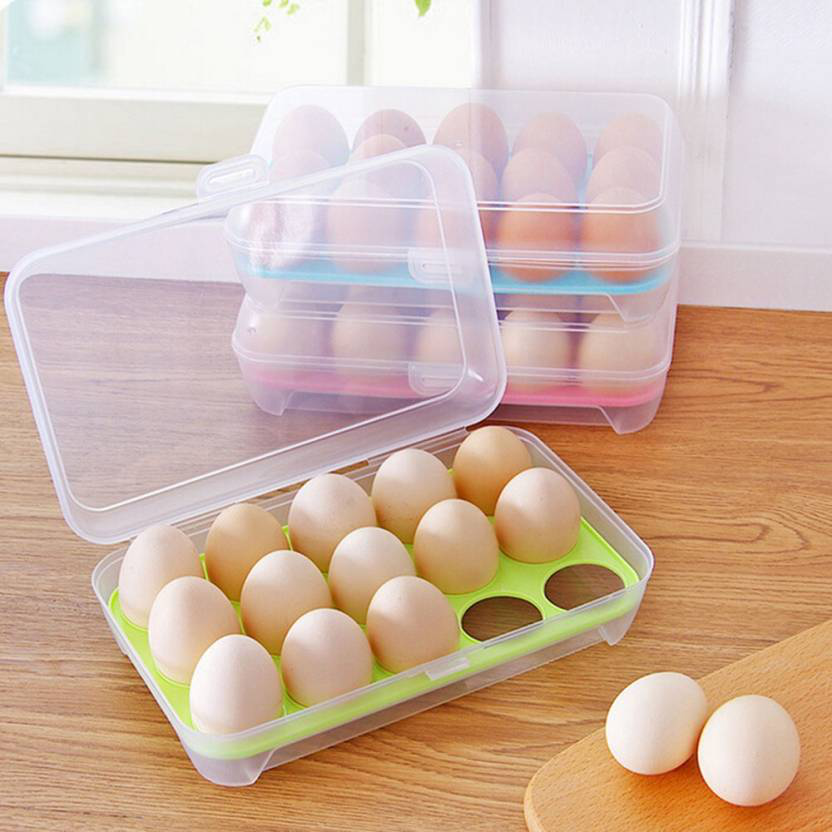egg: (100, 425, 584, 732), (256, 95, 678, 390), (600, 664, 810, 815)
